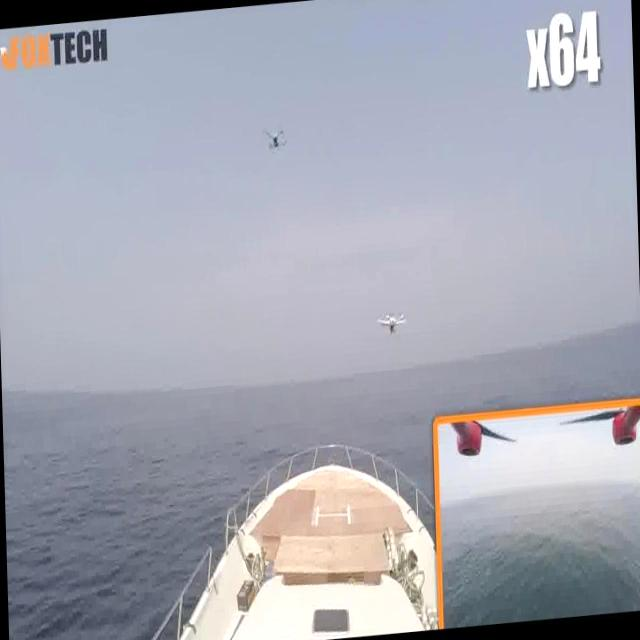drone: (374, 302, 412, 345), (260, 118, 290, 160)
